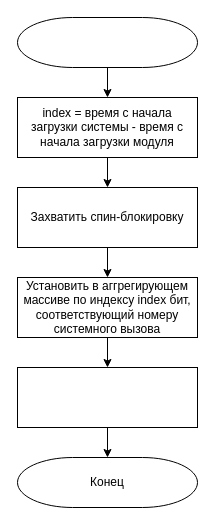
The diagram is 215 pixels wide and 525 high, and some of its shapes have lost their labels. The centre of each missing label's shape, as x and y in pixels:
Начало: the point at 107,42
Освободить спин-блокировку: the point at 107,397
